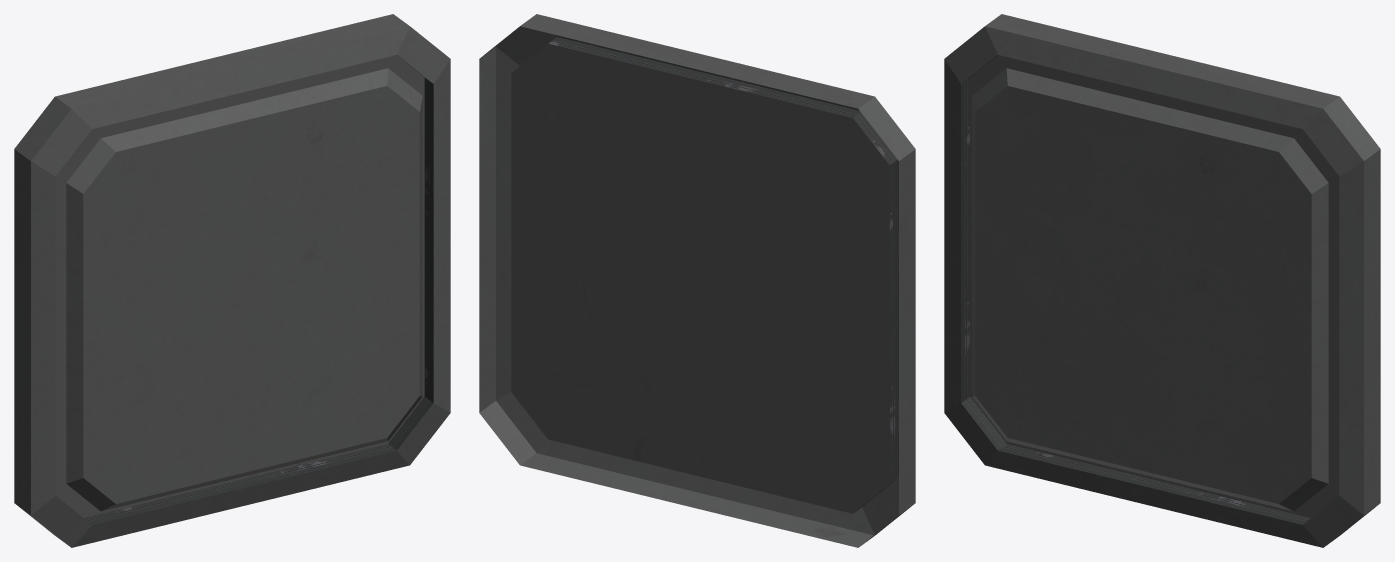
Rendered from Subway_Vents4_L1.fbx.
3 renders of one model, left to right at view 1: azimuth 30°, elevation 25°; view 2: azimuth 150°, elevation 25°; view 3: azimuth 330°, elevation 25°, orthographic.
Parts seen in each view (by area): view 1: polySurface1376; view 2: polySurface1376; view 3: polySurface1376.
Boxes of the visible parts, x1,y1,x2,y2 form: polySurface1376: (14, 14, 450, 547); polySurface1376: (479, 14, 915, 547); polySurface1376: (944, 14, 1380, 547).
Bounding box in the file's own units: 30.41 × 30.41 × 3.45.
